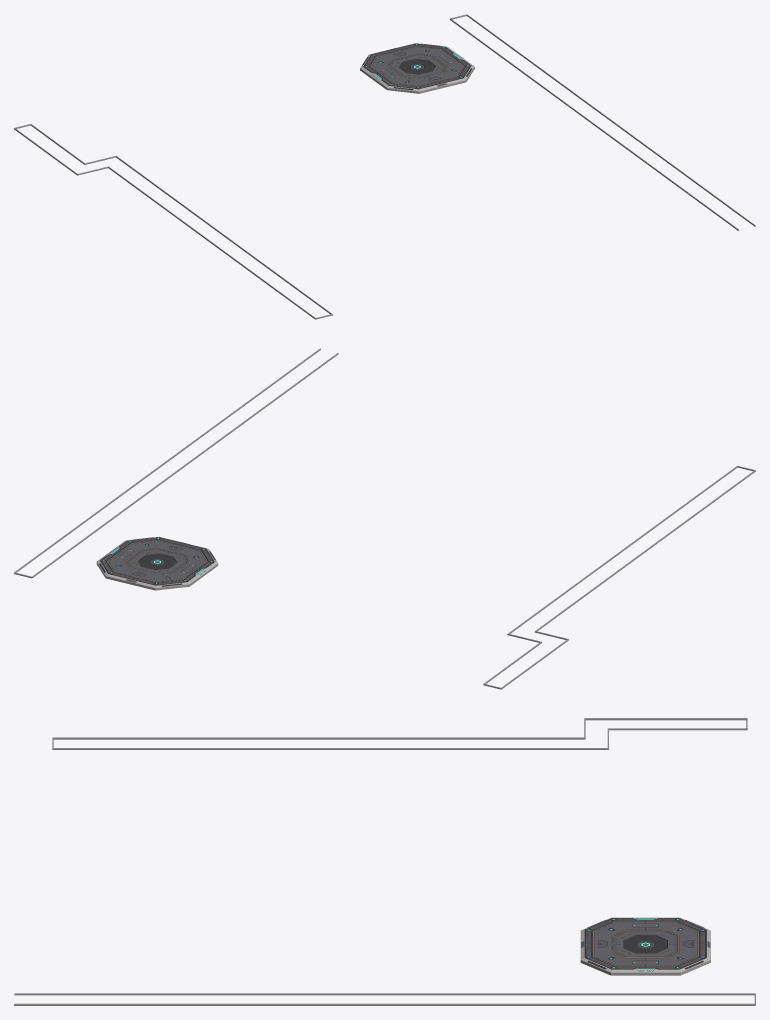
File: PathSide.glb
The picture shows the model from 3 angles, top to bottom: view 1: azimuth 30°, elevation 25°; view 2: azimuth 150°, elevation 25°; view 3: azimuth 270°, elevation 25°; orthographic projection. The views are drawn at different scales.
Visible parts, largest first — view 1: SM_Bld_Pod_Pad_01__1_; view 2: SM_Bld_Pod_Pad_01__1_; view 3: SM_Bld_Pod_Pad_01__1_.
Part boxes in pixels (x1,y1,x2,y2): SM_Bld_Pod_Pad_01__1_: [360, 43, 474, 93]; SM_Bld_Pod_Pad_01__1_: [96, 536, 218, 590]; SM_Bld_Pod_Pad_01__1_: [580, 917, 710, 975].
Bounding box in the file's own units: 73.19 × 0.5589 × 80.15.
Materials: 2 (2 with a texture image).
